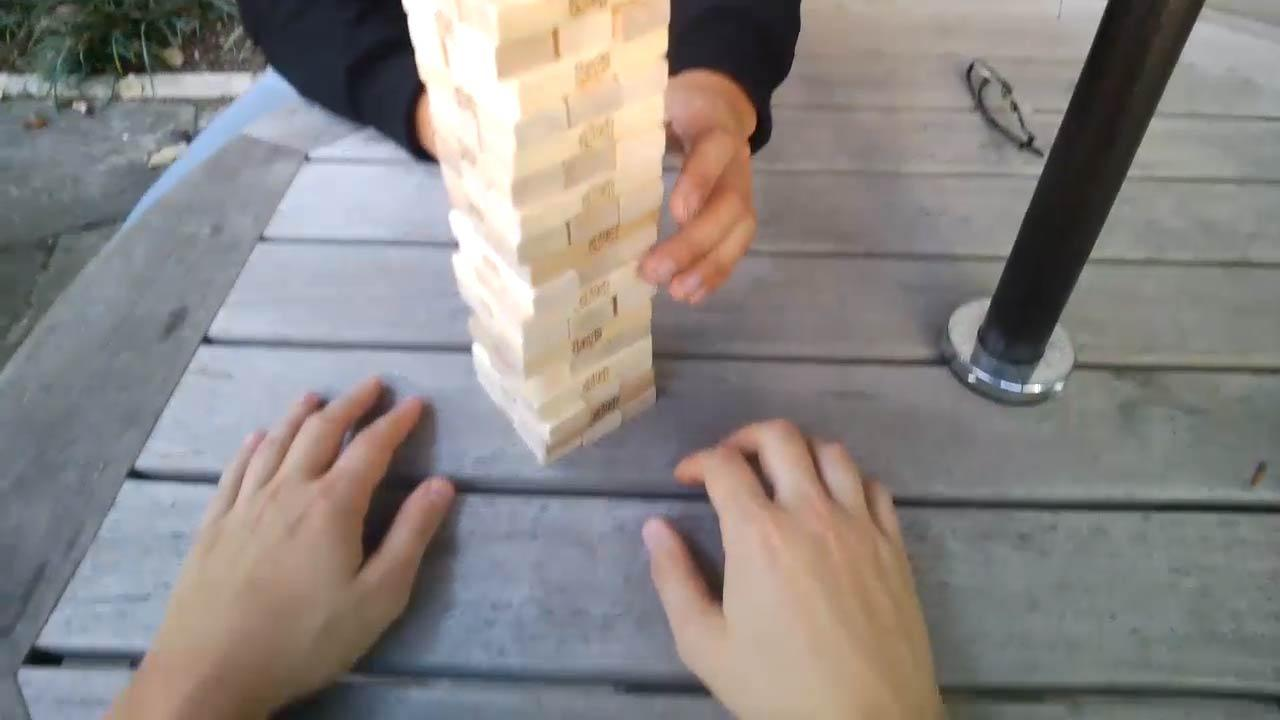hand: (170, 373, 452, 716), (639, 416, 930, 720), (661, 72, 756, 305)
